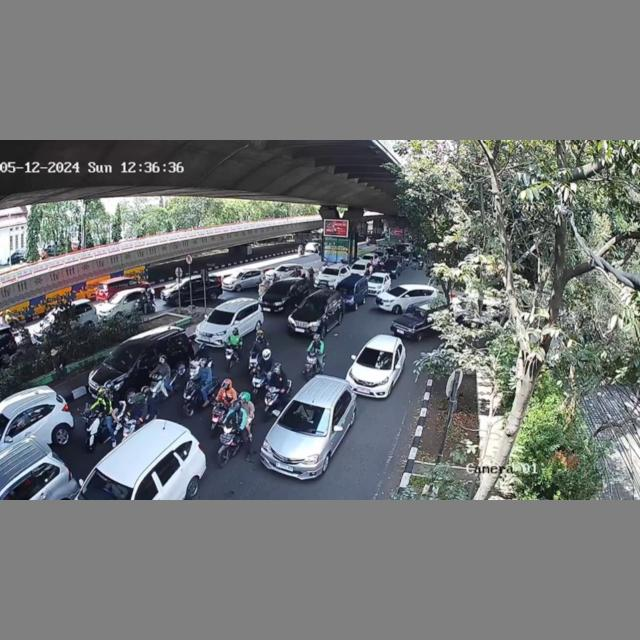windshield: (279, 401, 333, 436), (357, 345, 393, 371), (298, 298, 327, 313), (208, 309, 233, 325)
